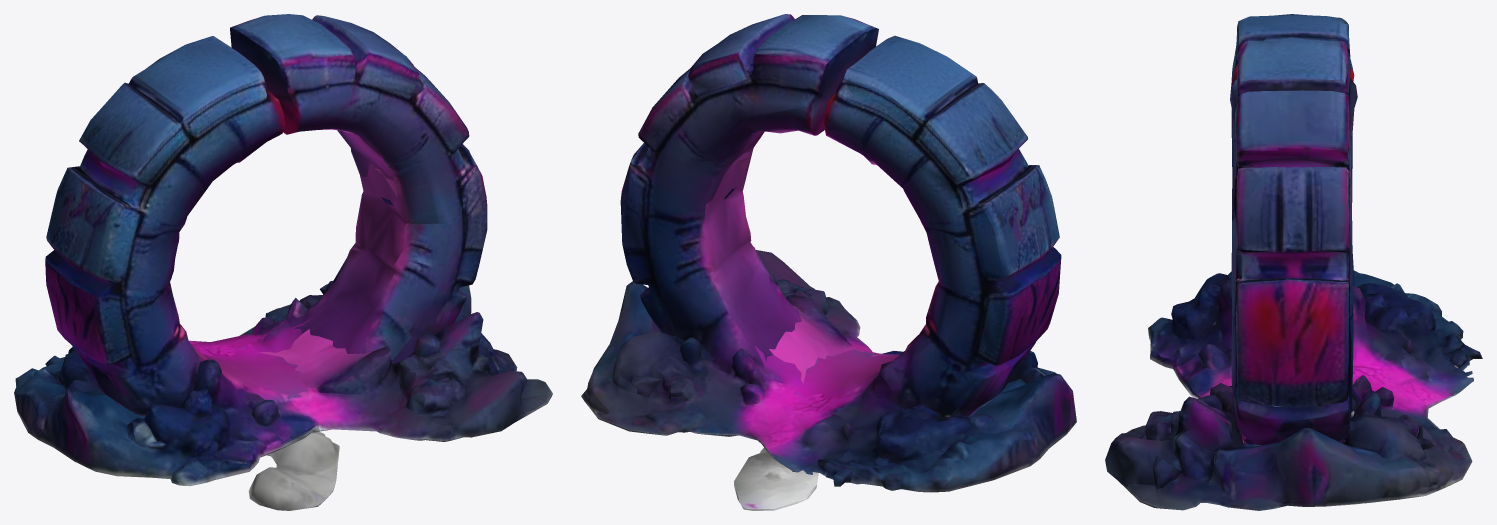
Rendered from yggdrasil-drowned-ring-south.collider.glb.
3 views of the same model, side by side, from view 1: azimuth 30°, elevation 25°; view 2: azimuth 150°, elevation 25°; view 3: azimuth 270°, elevation 25° (orthographic).
Parts seen in each view (by area): view 1: temp_mesh.ply; view 2: temp_mesh.ply; view 3: temp_mesh.ply.
Boxes of the visible parts, box(x1,y1,x2,y2) form: temp_mesh.ply: box(14, 14, 552, 510); temp_mesh.ply: box(581, 14, 1076, 510); temp_mesh.ply: box(1105, 14, 1482, 510).
Size of the model in its own units: 1.95 by 1.83 by 1.45.
Materials: 1 (1 with a texture image).
